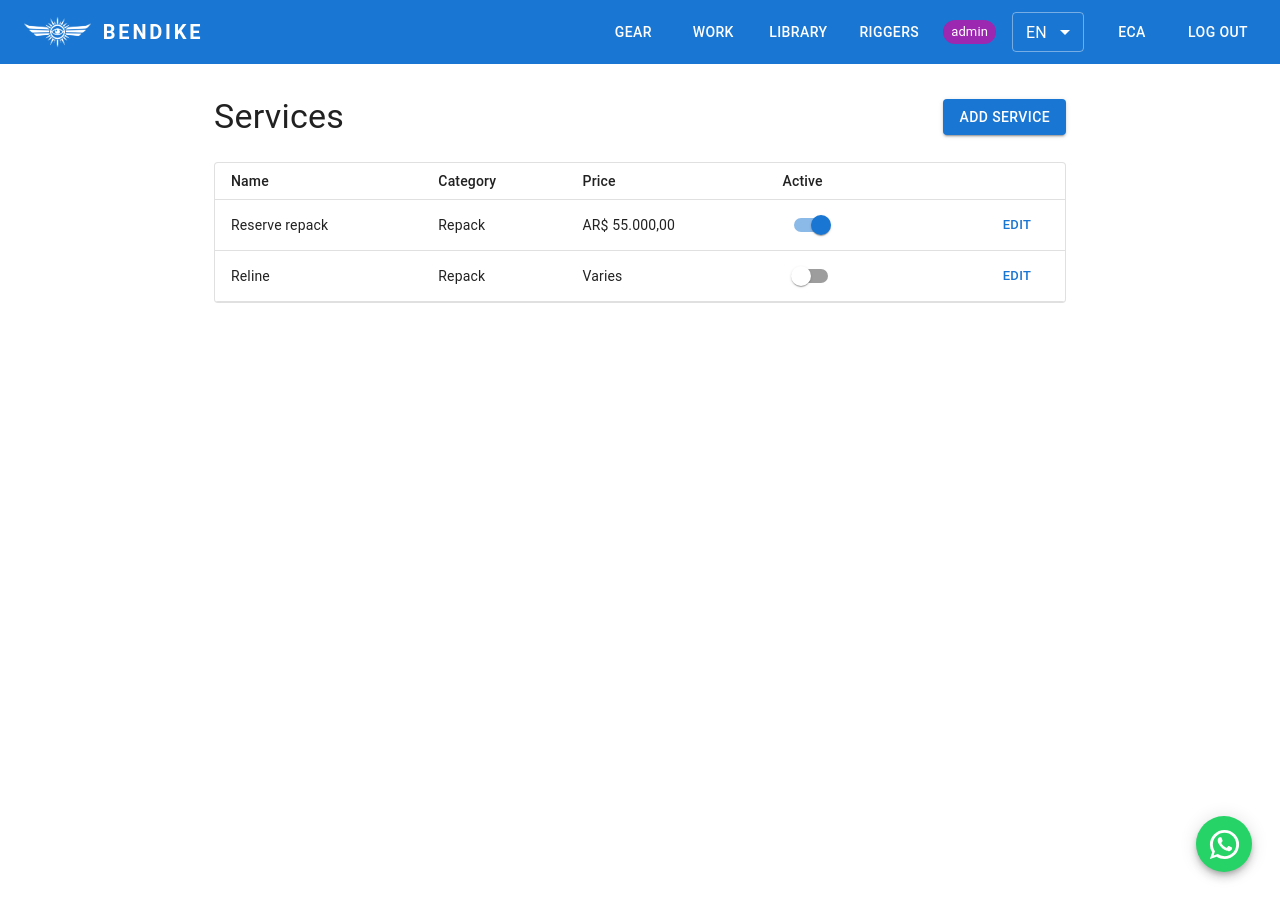
Test: ServicesAdminPage › adding a service › shows the API error, such as a slug already in use
Check: the text "Reserve repack" is shown, box [215,200,422,250]
Click the button "Add service": (1005, 117) [943,99,1066,135]
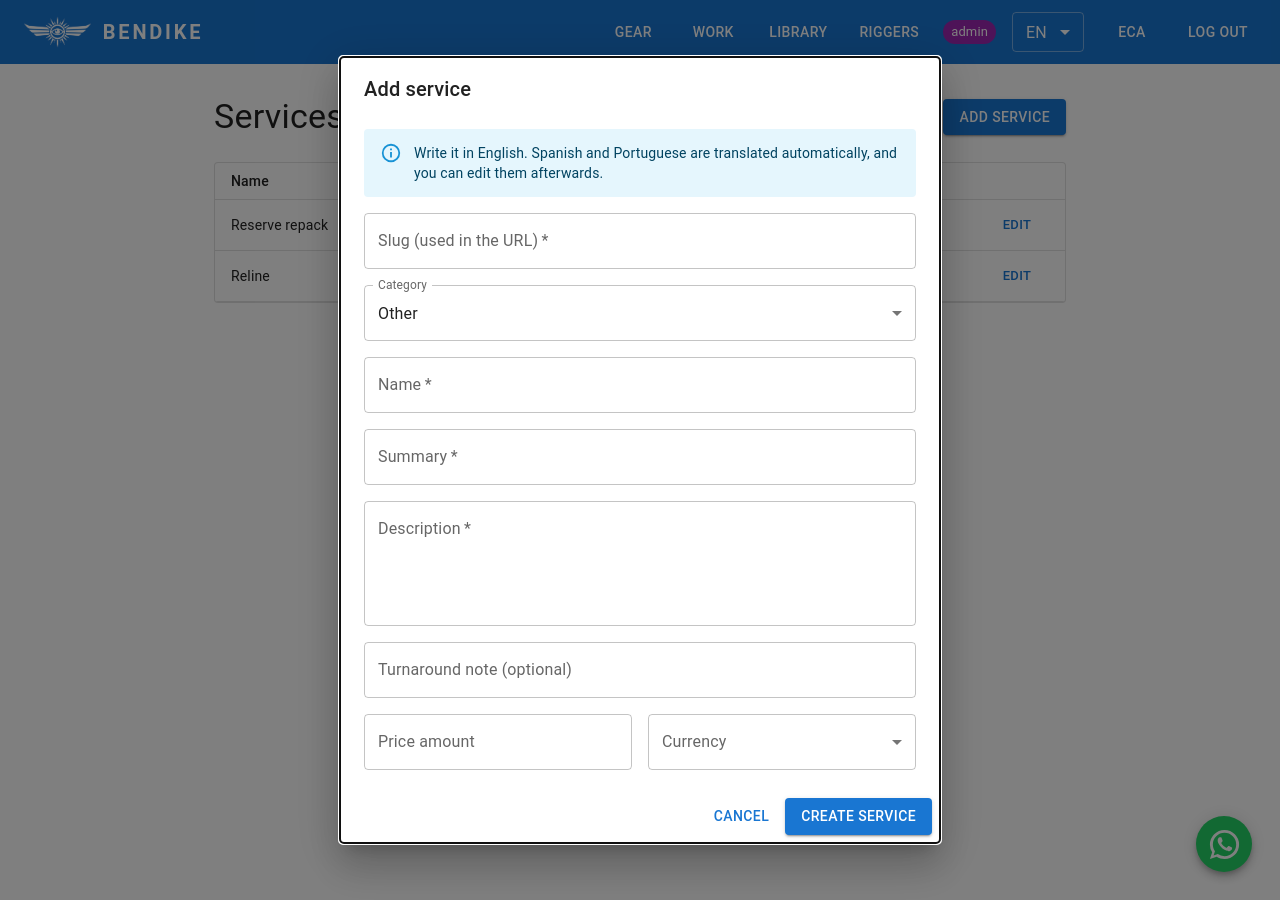
In the field labelled "Slug (used in the URL) *": (640, 241) [364,213,916,269], type "x"
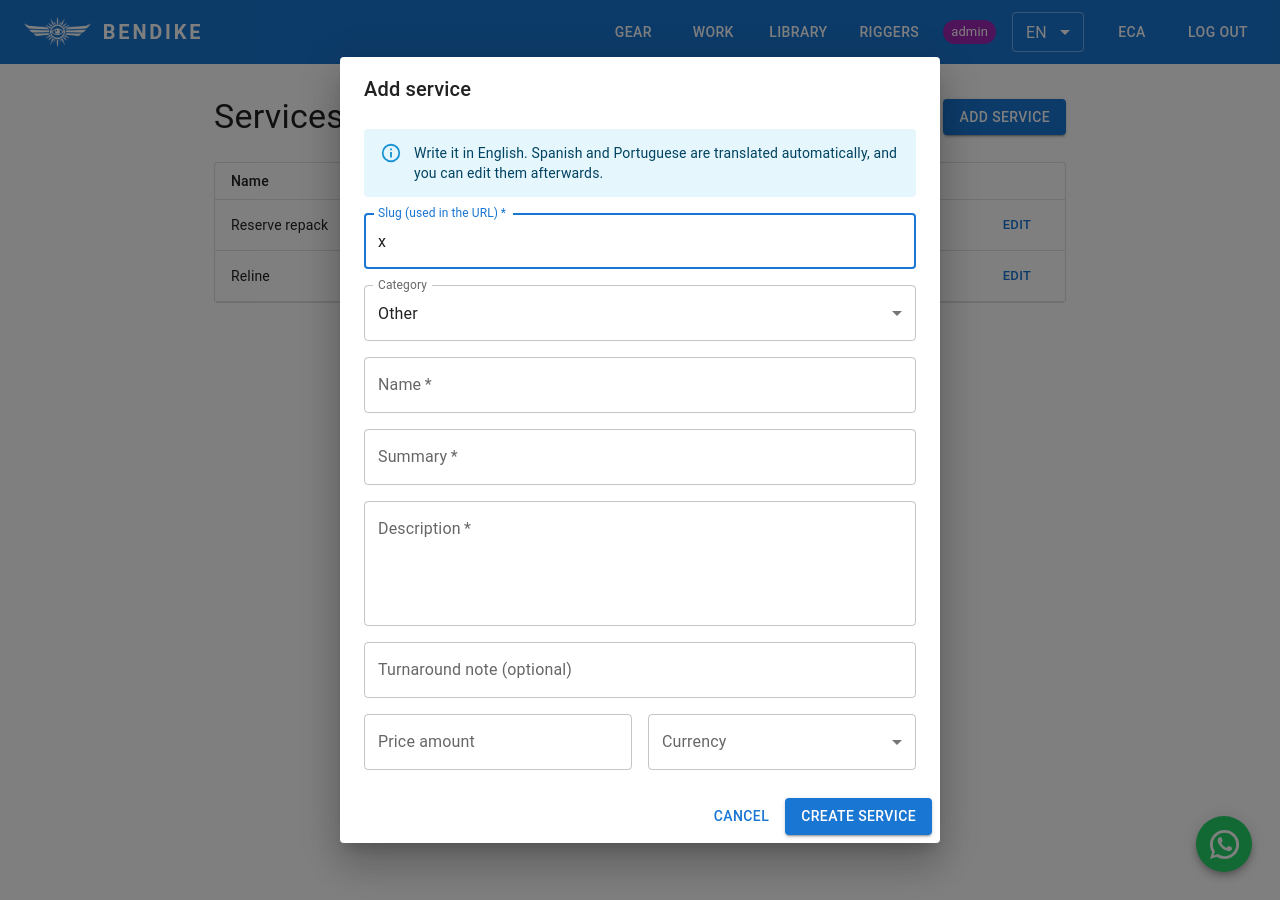
In the field labelled "Name *": (640, 385) [364,357,916,413], type "X"
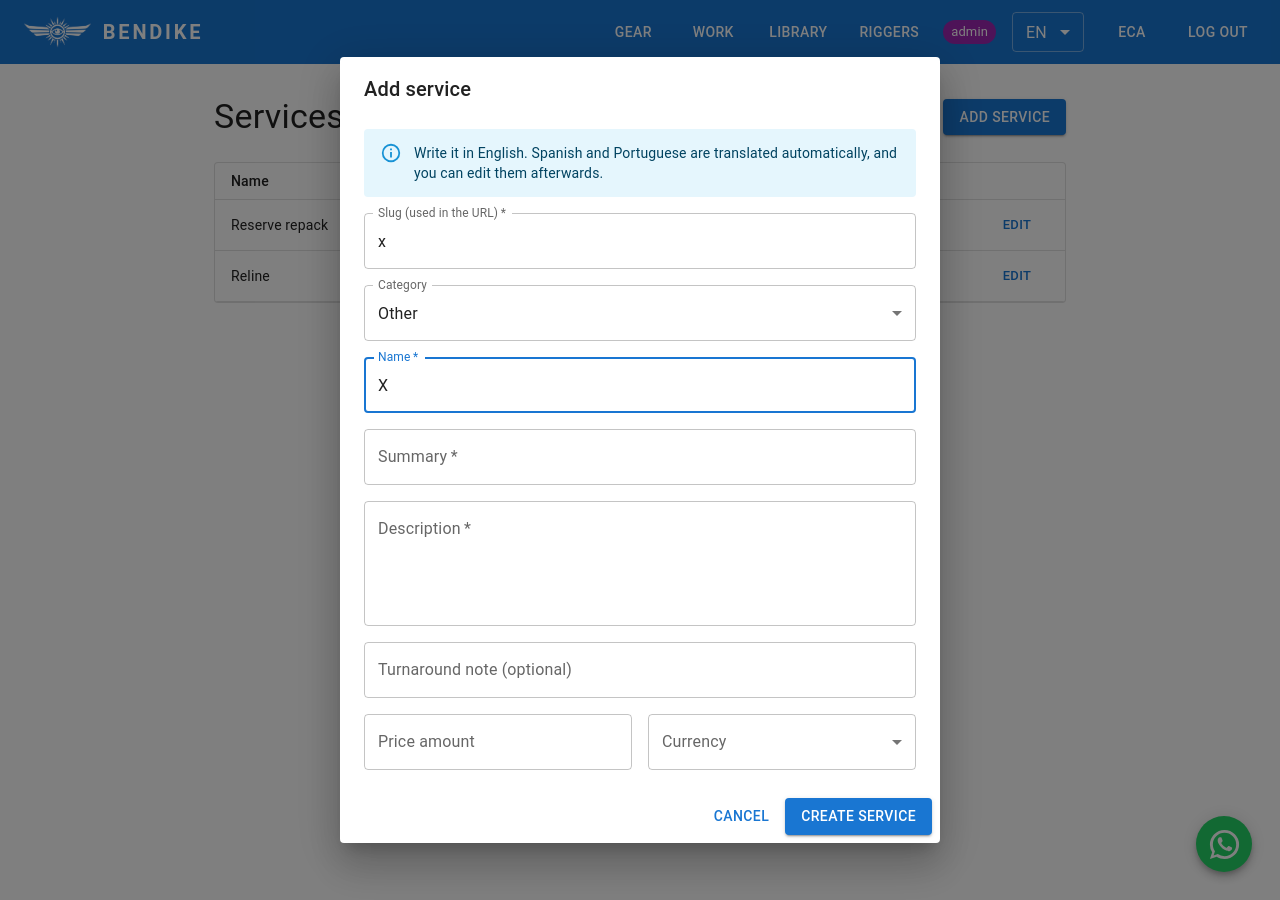
In the field labelled "Summary *": (640, 457) [364,429,916,485], type "x"
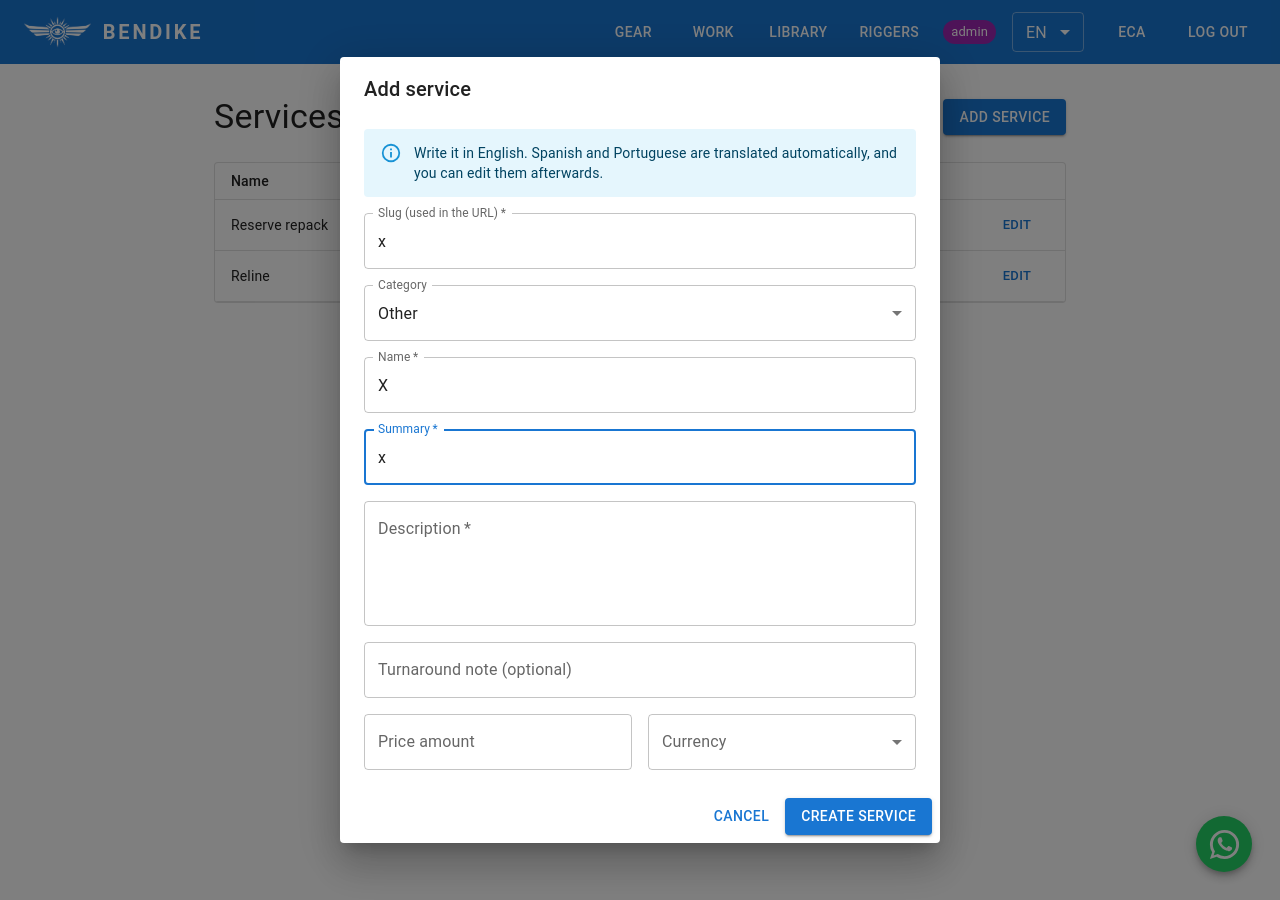
In the text box labelled "Description *": (640, 564) [378,518,902,610], type "x"
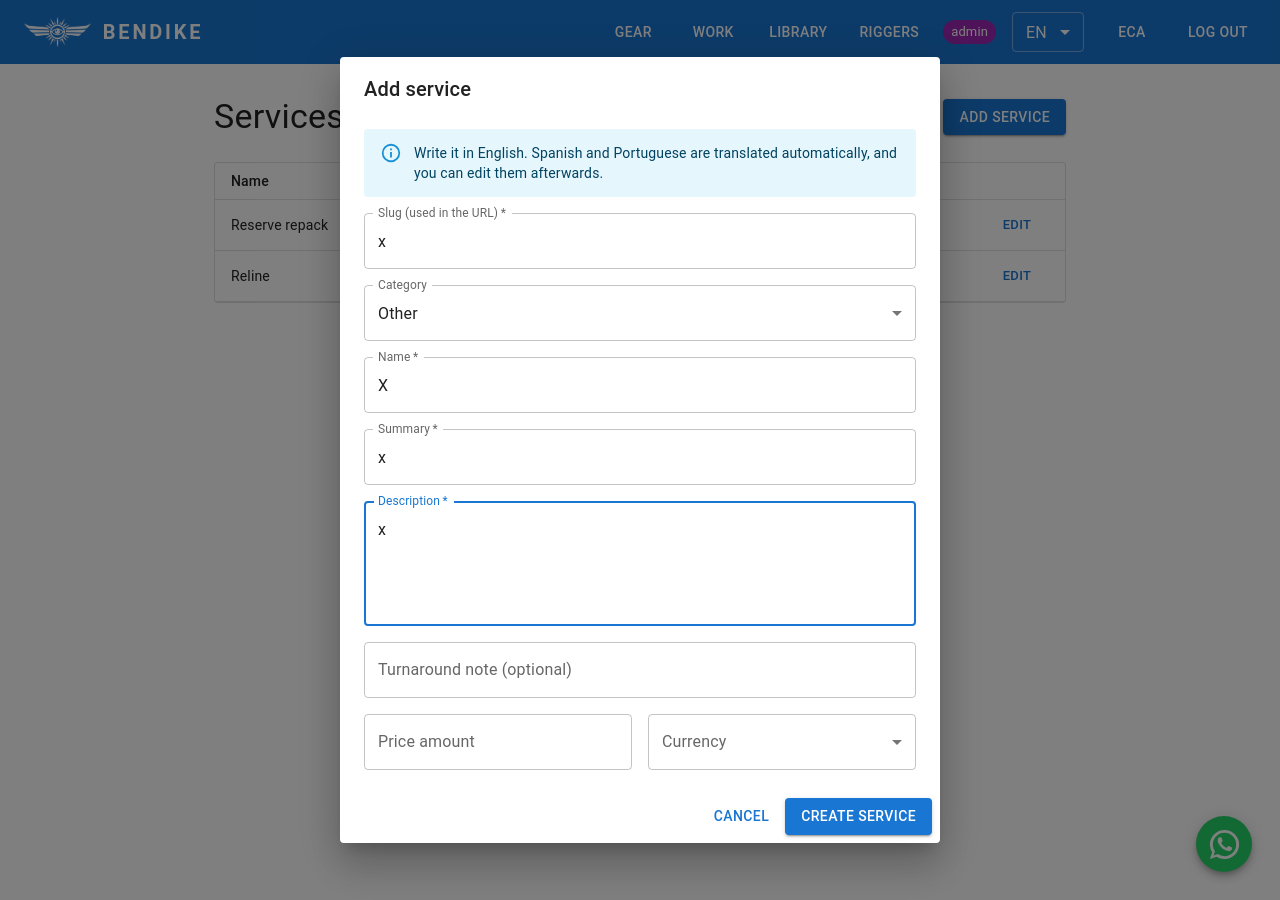
Click the button "Create service": (859, 817) [785,798,932,835]
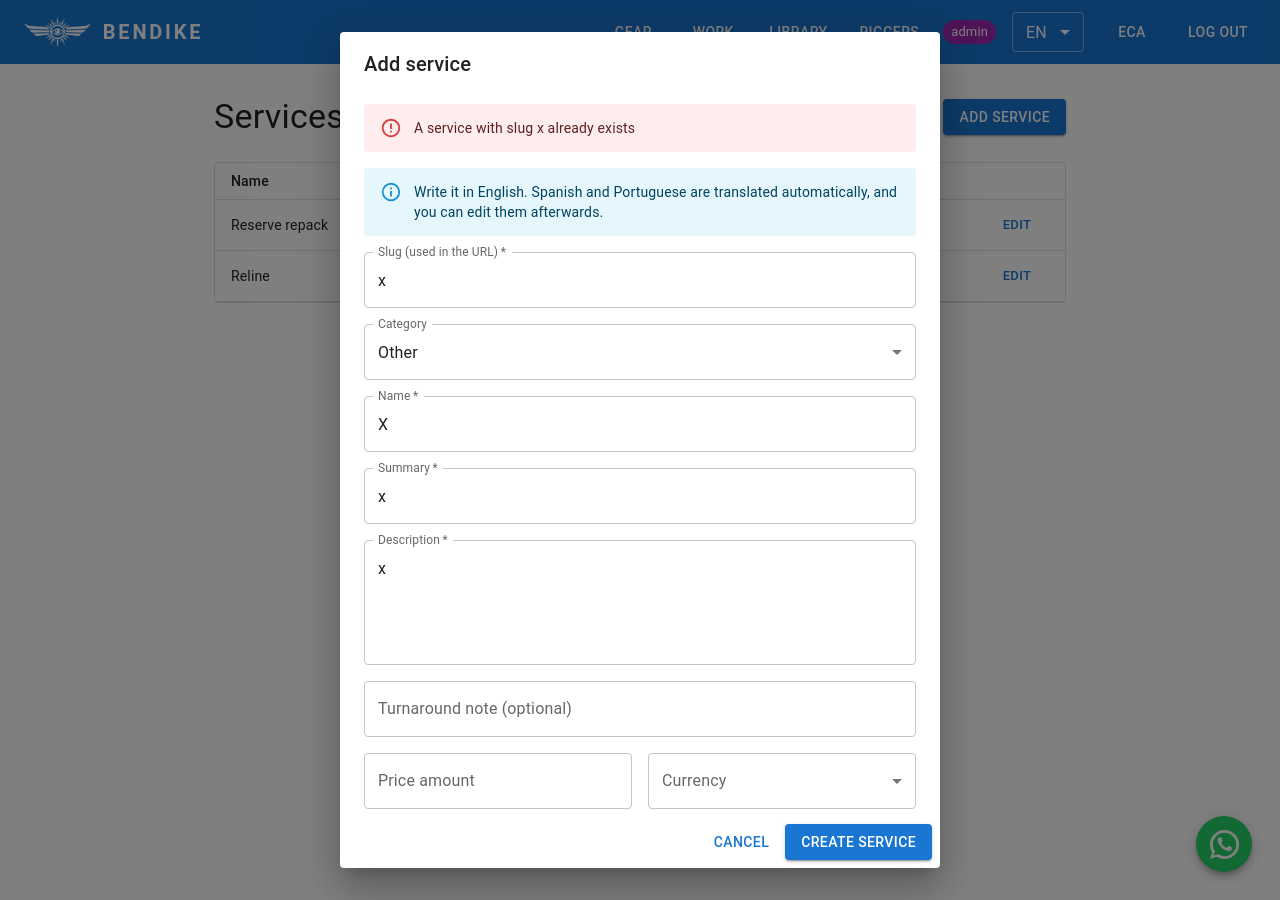
Check: the text "A service with slug x already exists" is shown, box [414,120,635,136]
